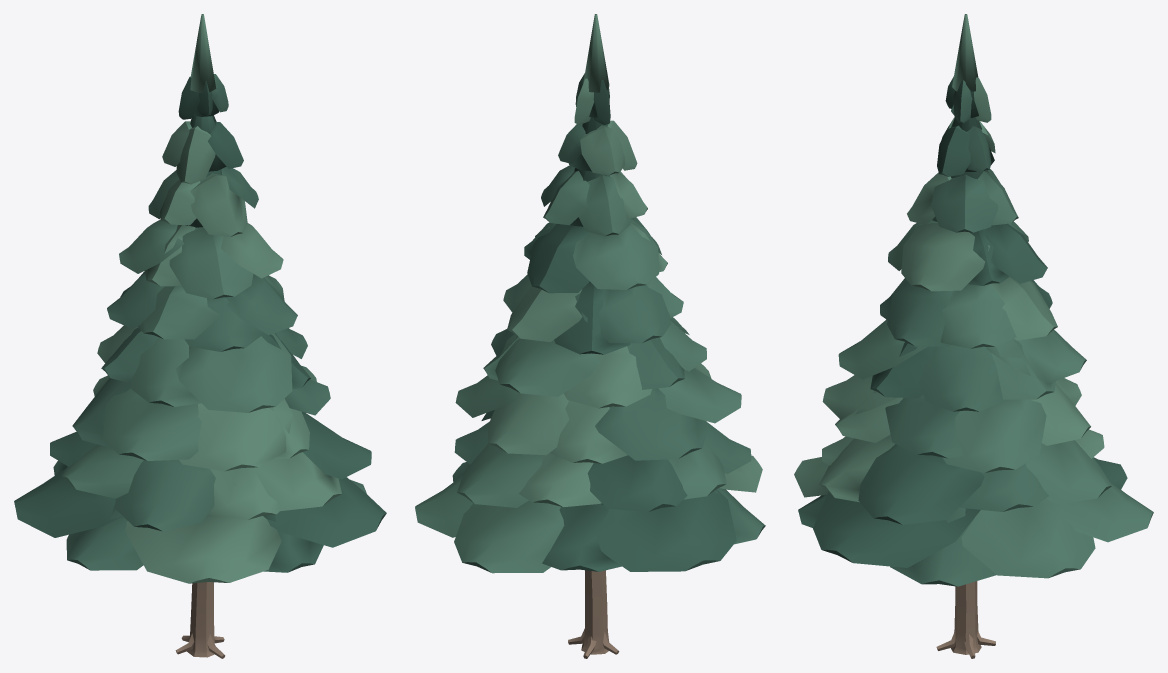
The model's file is spruce.glb.
3 renders of one model, left to right at view 1: azimuth 30°, elevation 25°; view 2: azimuth 150°, elevation 25°; view 3: azimuth 270°, elevation 25°, orthographic.
Parts seen in each view (by area): view 1: spruce; view 2: spruce; view 3: spruce.
Part boxes in pixels (x1,y1,x2,y2): spruce: (14, 14, 386, 658); spruce: (415, 14, 765, 658); spruce: (794, 14, 1153, 658).
Bounding box in the file's own units: 5.23 × 10.5 × 5.4.
